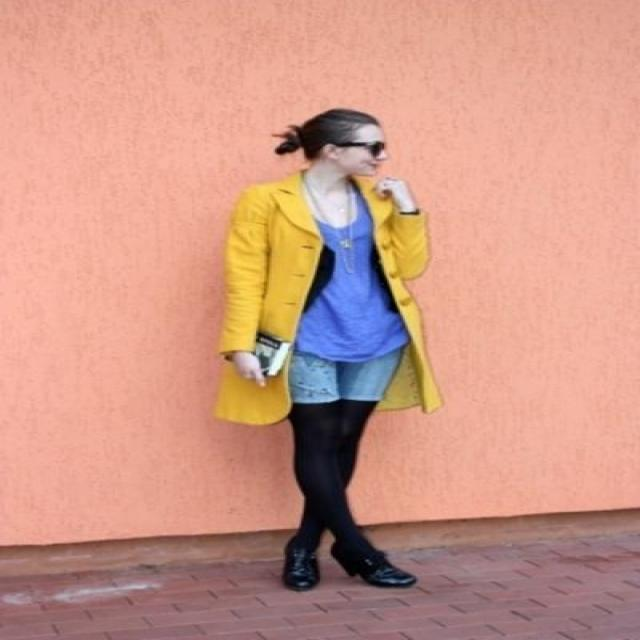jacket: (206, 172, 449, 424)
pants: (288, 346, 390, 402)
shirt: (296, 195, 402, 370)
shoe: (282, 554, 416, 591)
sunglass: (334, 141, 384, 191)
